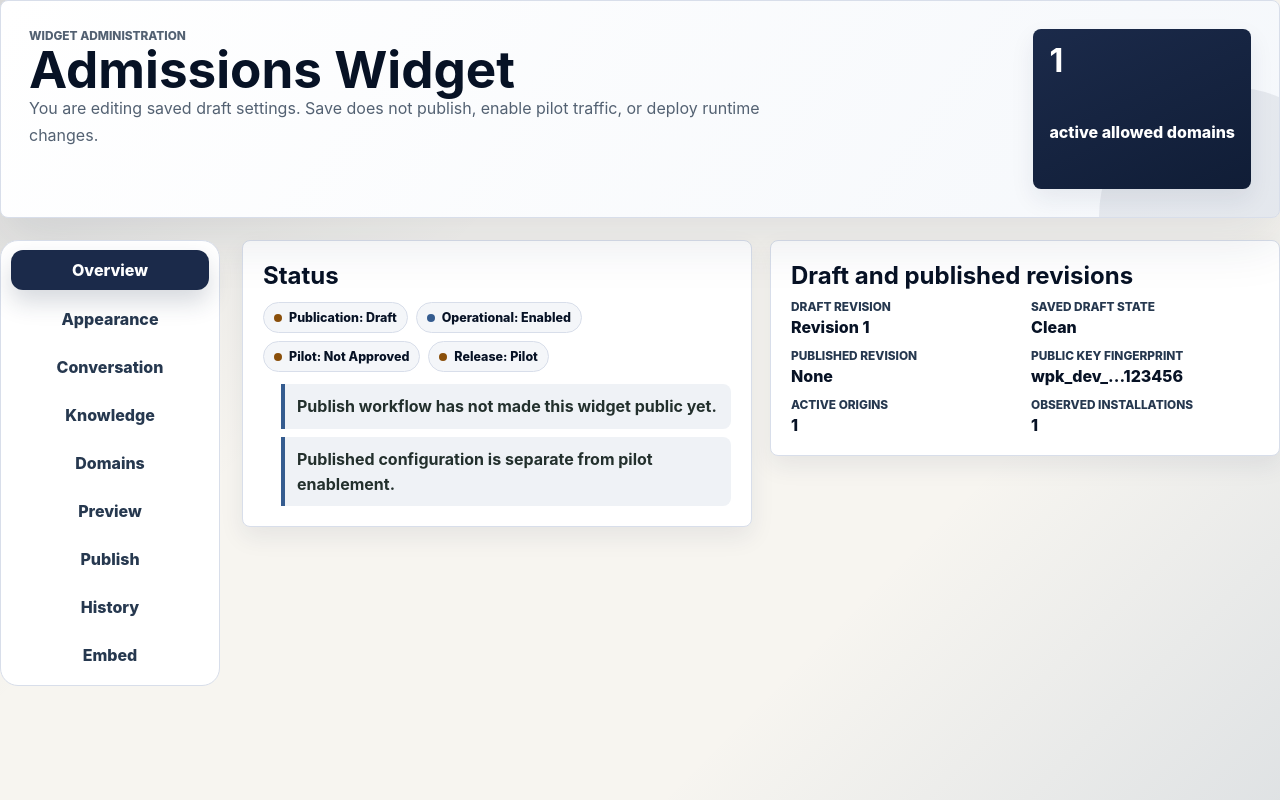
widget administration frontend › saves appearance draft changes with the current concurrency version
Click the tab "Appearance".
click(110, 319)  # box [11,299,209,339]
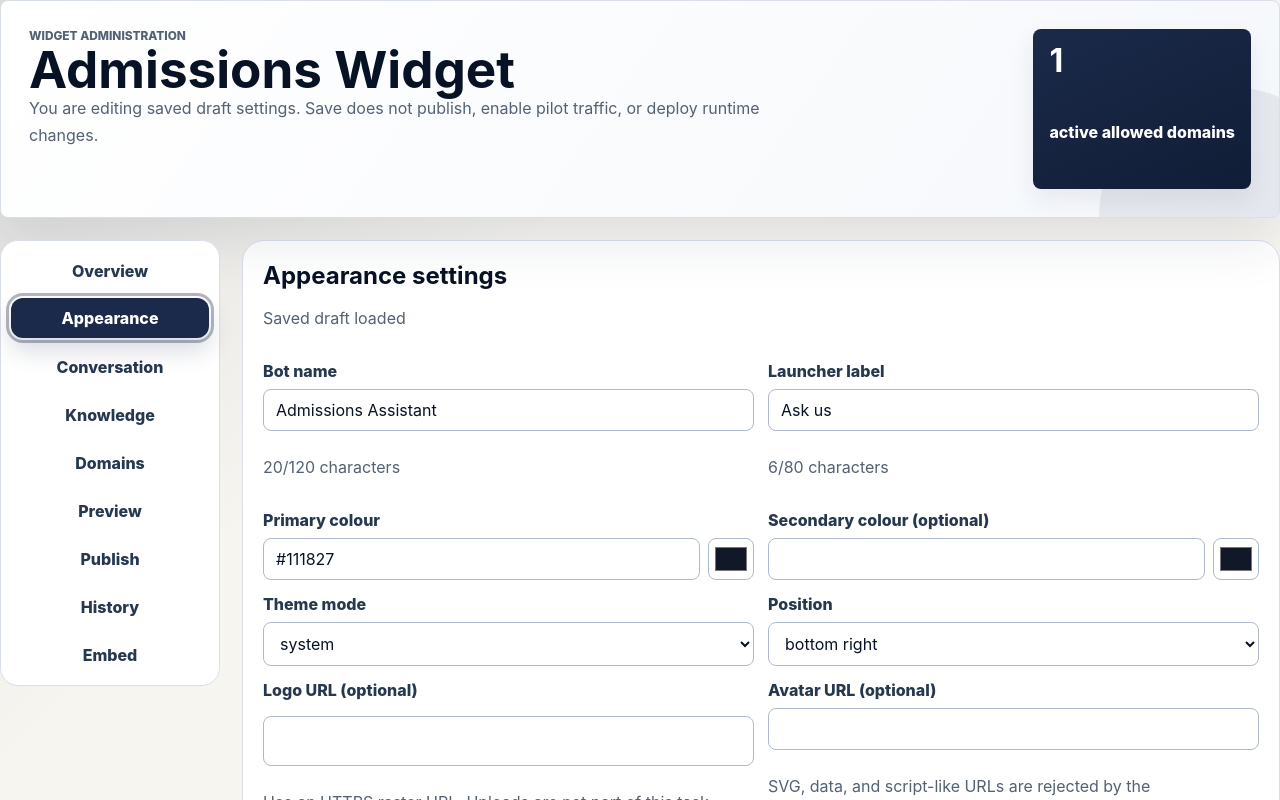
Replace the text in the field labelled "Bot name" with "Campus Bot" at (508, 410), box [263,389,754,431]
(page scrolled)
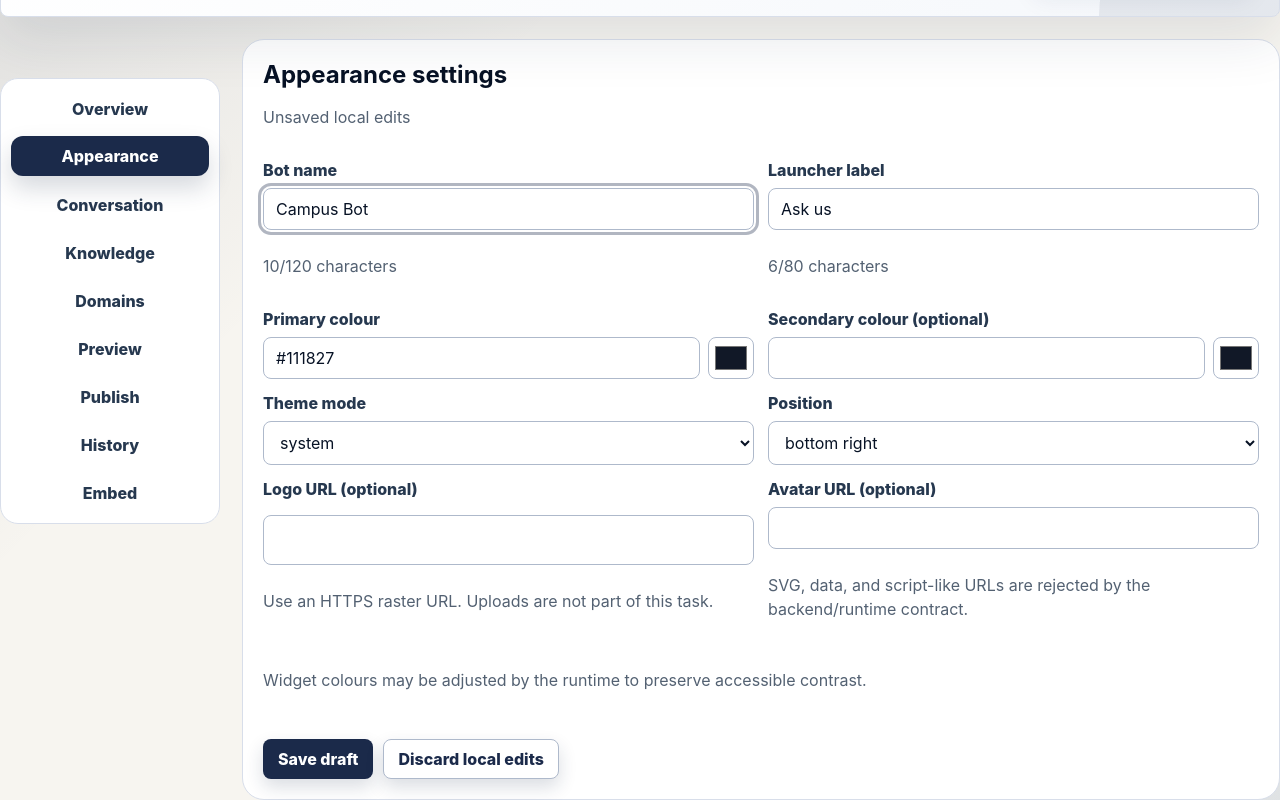
Click the button "Save draft".
click(318, 759)  # box [263,739,373,779]
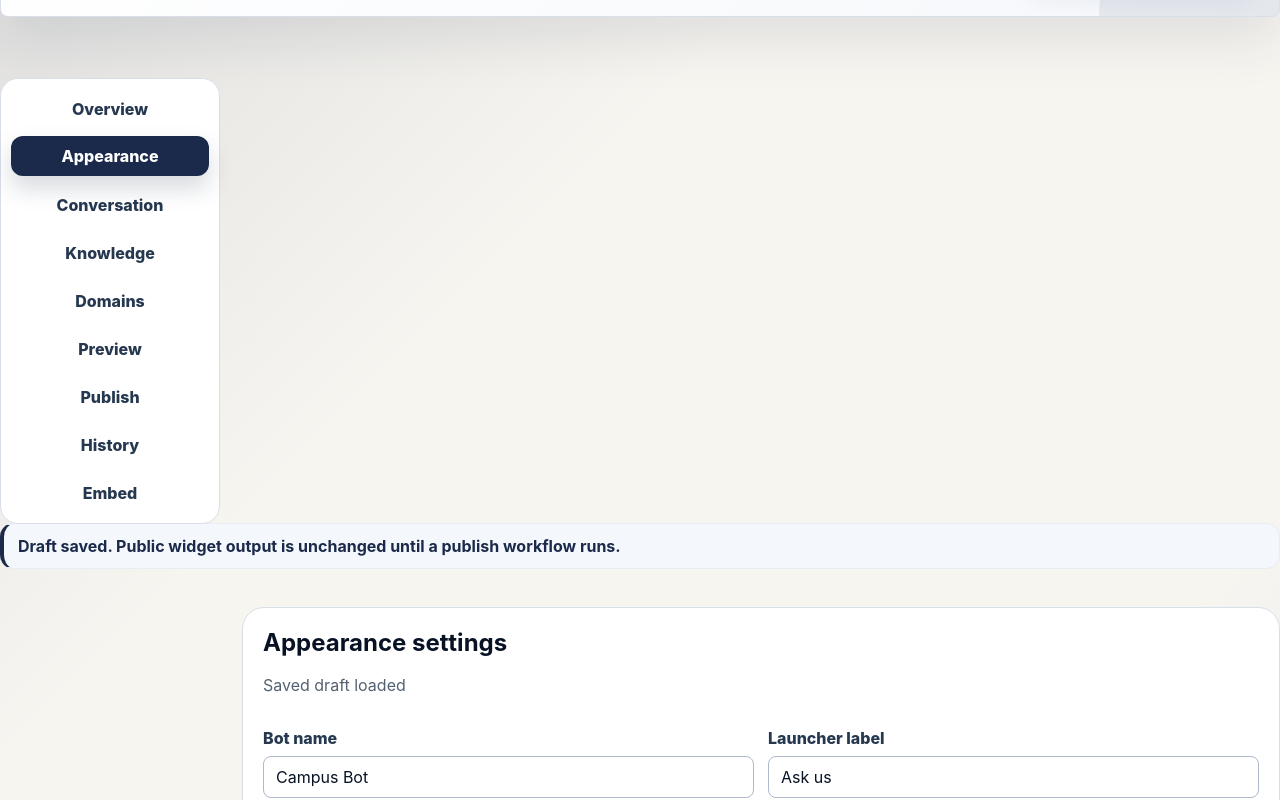
Result: the text "Draft saved. Public widget output is unchanged until a publish workflow runs." is shown at [0,523,1279,569]
